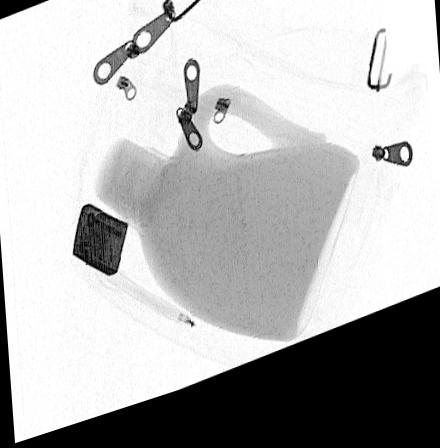Lighter: (72, 208, 127, 284)
